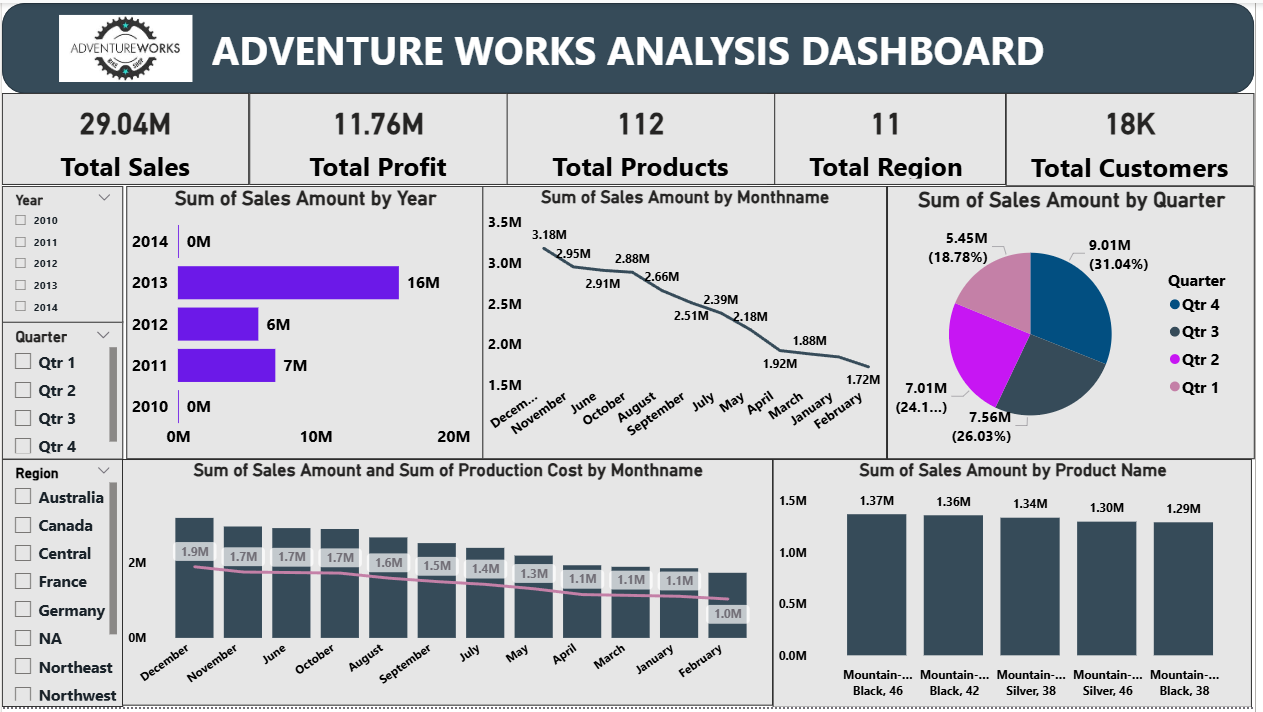

Layout of this report page (visuals, bound fields, positions):
{"tool":"powerbi","page":{"name":" Dashboard","canvas":[1280,720],"ordinal":12},"visuals":[{"type":"shape","box":[0,0,1279.7,92.3],"z":0},{"type":"clusteredColumnChart","fields":{"Category":["Union_Fact_Internet_Sales.Product Name"],"Y":["Sum(Union_Fact_Internet_Sales.Sales Amount)"]},"box":[788.4,466.1,489.8,253.9],"z":5000},{"type":"slicer","fields":{"Values":["Union_Fact_Internet_Sales.Year"]},"box":[0,187.6,124.1,139.9],"z":6000},{"type":"slicer","fields":{"Values":["DimSalesTerritory.SalesTerritoryRegion"]},"box":[0,465.9,123.5,253.1],"z":7000},{"type":"slicer","fields":{"Values":["Union_Fact_Internet_Sales.Quarter"]},"box":[0,326.5,123.5,140.6],"z":8000},{"type":"card","fields":{"Values":["Union_Fact_Internet_Sales.Total Sales"]},"box":[0,92.3,252.5,93.8],"z":9000},{"type":"card","fields":{"Values":["Union_Fact_Internet_Sales.Total Region"]},"box":[782,92.3,243.8,93.8],"z":10000},{"type":"card","fields":{"Values":["Union_Fact_Internet_Sales.Total Customers"]},"box":[1025.8,92.3,253.9,95.2],"z":11000},{"type":"card","fields":{"Values":["Union_Fact_Internet_Sales.Total Profit"]},"box":[252.5,92.3,264,93.8],"z":12000},{"type":"card","fields":{"Values":["Union_Fact_Internet_Sales.Total Products"]},"box":[516.5,92.3,274.1,93.8],"z":13000},{"type":"image","box":[21.5,7.2,209.2,78.7],"z":14001},{"type":"barChart","fields":{"Category":["Union_Fact_Internet_Sales.Year"],"Y":["Sum(Union_Fact_Internet_Sales.Sales Amount)"]},"box":[126.9,187.7,364.7,278.9],"z":14002},{"type":"lineChart","fields":{"Category":["Union_Fact_Internet_Sales.Monthname"],"Y":["Sum(Union_Fact_Internet_Sales.Sales Amount)"]},"box":[491.6,187.7,413,278.9],"z":14003},{"type":"pieChart","fields":{"Category":["Union_Fact_Internet_Sales.Quarter"],"Y":["Sum(Union_Fact_Internet_Sales.Sales Amount)"]},"box":[904.6,187.7,375.4,278.9],"z":14004},{"type":"lineClusteredColumnComboChart","fields":{"Category":["Union_Fact_Internet_Sales.Monthname"],"Y":["Sum(Union_Fact_Internet_Sales.Sales Amount)"],"Y2":["Sum(Union_Fact_Internet_Sales.Production Cost)"]},"box":[123.4,466.6,665,252.1],"z":14005}]}

Visuals, with their boxes in screenshot pixels (x1, y1, x2, y2), scaled from the page's 1280x720 canvas onto the 1263x712 screenshot:
shape: bbox(0, 0, 1262, 91)
clusteredColumnChart - Union_Fact_Internet_Sales.Product Name x Sum(Union_Fact_Internet_Sales.Sales Amount): bbox(778, 461, 1261, 711)
slicer - Union_Fact_Internet_Sales.Year: bbox(0, 186, 122, 324)
slicer - DimSalesTerritory.SalesTerritoryRegion: bbox(0, 461, 122, 711)
slicer - Union_Fact_Internet_Sales.Quarter: bbox(0, 323, 122, 462)
card - Union_Fact_Internet_Sales.Total Sales: bbox(0, 91, 249, 184)
card - Union_Fact_Internet_Sales.Total Region: bbox(772, 91, 1012, 184)
card - Union_Fact_Internet_Sales.Total Customers: bbox(1012, 91, 1262, 185)
card - Union_Fact_Internet_Sales.Total Profit: bbox(249, 91, 510, 184)
card - Union_Fact_Internet_Sales.Total Products: bbox(510, 91, 780, 184)
image: bbox(21, 7, 228, 85)
barChart - Union_Fact_Internet_Sales.Year x Sum(Union_Fact_Internet_Sales.Sales Amount): bbox(125, 186, 485, 461)
lineChart - Union_Fact_Internet_Sales.Monthname x Sum(Union_Fact_Internet_Sales.Sales Amount): bbox(485, 186, 893, 461)
pieChart - Union_Fact_Internet_Sales.Quarter x Sum(Union_Fact_Internet_Sales.Sales Amount): bbox(893, 186, 1262, 461)
lineClusteredColumnComboChart - Union_Fact_Internet_Sales.Monthname x Sum(Union_Fact_Internet_Sales.Sales Amount): bbox(122, 461, 778, 711)
